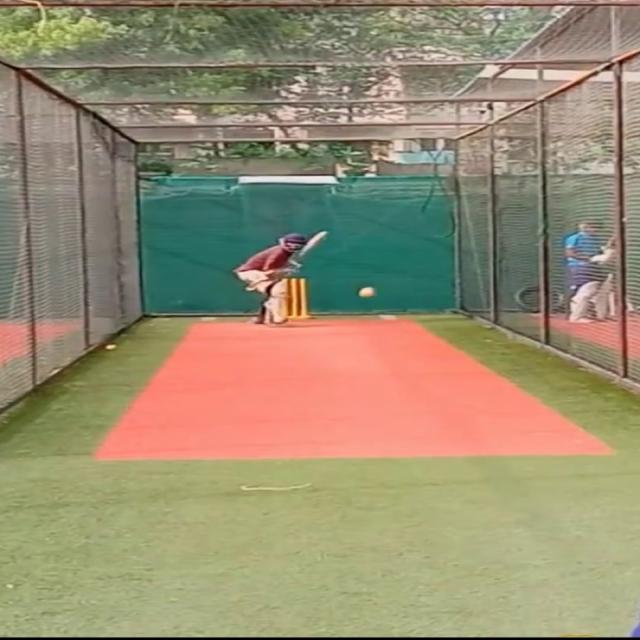ball: (357, 286, 379, 300), (104, 342, 121, 350)
stump: (290, 277, 310, 320)
